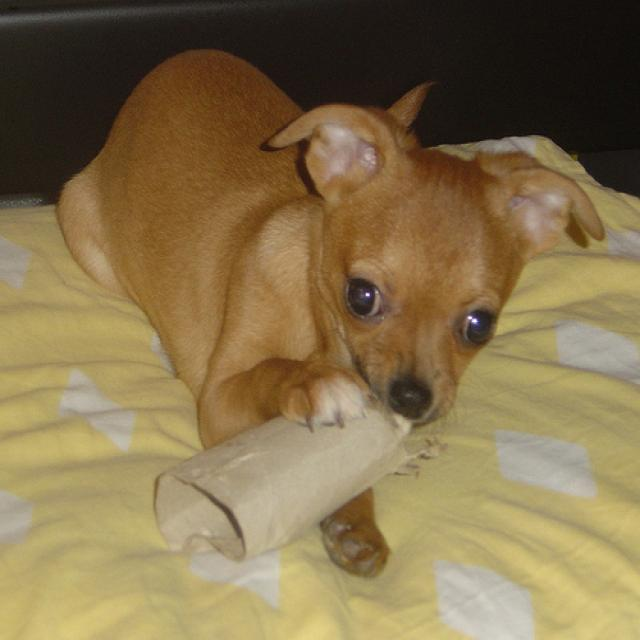dog-chihuahua: (49, 39, 616, 486)
